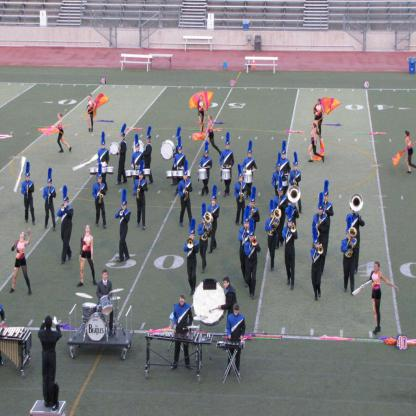face: (180, 298, 185, 307), (234, 310, 240, 317), (103, 273, 108, 281), (375, 264, 380, 272), (190, 235, 195, 242), (224, 282, 229, 289), (245, 222, 250, 228), (288, 222, 293, 228), (348, 233, 353, 239), (122, 206, 127, 211), (289, 202, 294, 207), (21, 232, 25, 238), (64, 201, 68, 207), (26, 176, 30, 182), (184, 175, 188, 181), (240, 178, 244, 184), (251, 237, 255, 243), (271, 213, 275, 219), (319, 210, 323, 216), (316, 243, 320, 249), (87, 227, 91, 232), (212, 200, 216, 205), (251, 202, 255, 207), (280, 192, 284, 197), (325, 196, 329, 201), (49, 183, 53, 187), (103, 144, 106, 149), (121, 136, 124, 141), (137, 147, 140, 152), (147, 139, 150, 144), (140, 176, 143, 181), (99, 179, 102, 184), (206, 154, 209, 159), (226, 144, 229, 149), (249, 153, 252, 158), (283, 155, 286, 160), (294, 166, 297, 171), (278, 168, 281, 173), (203, 219, 206, 224), (89, 96, 92, 100), (180, 150, 183, 154), (58, 115, 60, 120), (318, 101, 320, 106), (405, 133, 407, 138), (201, 97, 203, 101), (209, 117, 211, 121), (313, 124, 314, 129)
